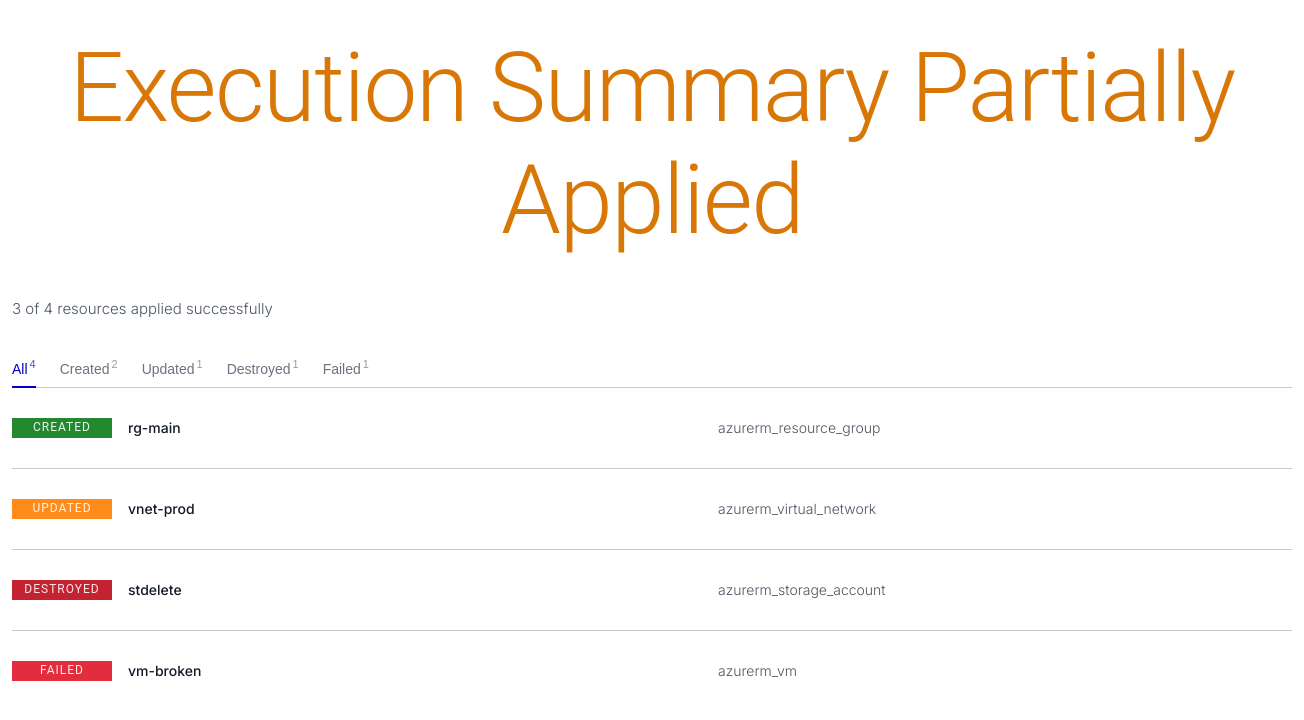
Scenario: ApplyResultView › filters by action when filter button clicked
Click the button "Created2" at [89, 369], box [60,350,118,388]
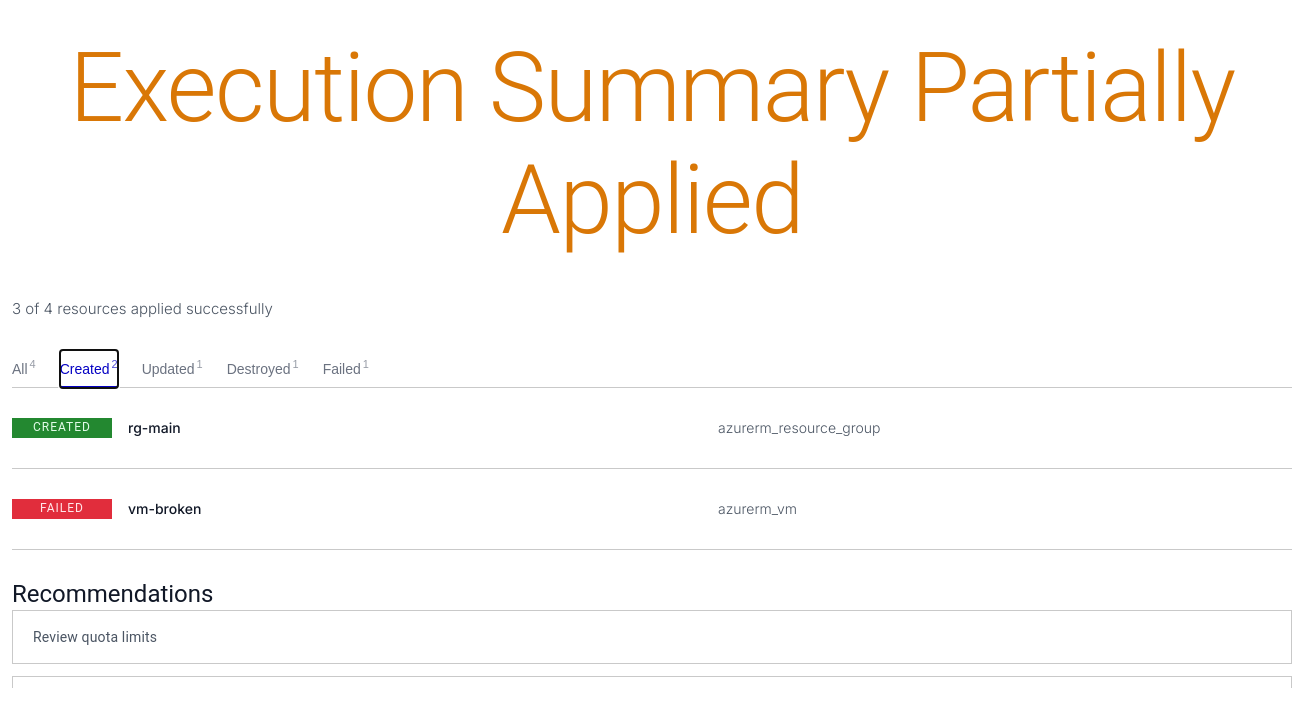
Check: the text "rg-main" is shown, box [128,420,181,436]
Check: the text "vnet-prod" is gone
Check: the text "stdelete" is gone
